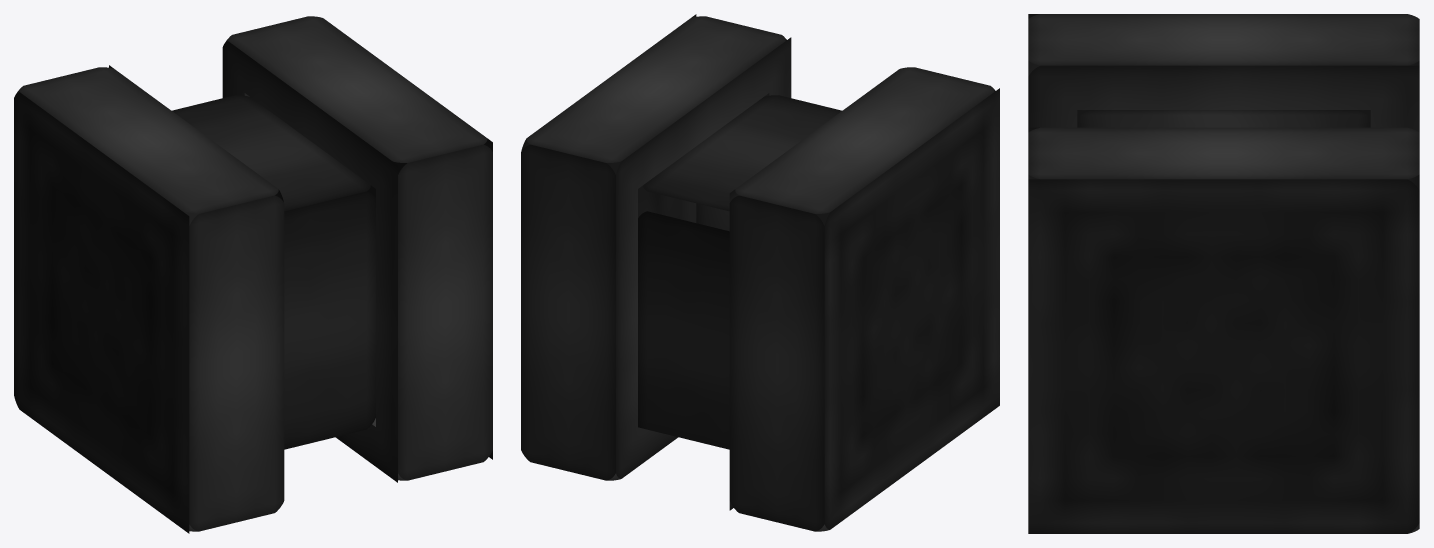
Rendered from rotor_creative_east_west.obj.
3 views of the same model, side by side, from view 1: azimuth 30°, elevation 25°; view 2: azimuth 150°, elevation 25°; view 3: azimuth 270°, elevation 25° (orthographic). The views are drawn at different scales.
Parts seen in each view (by area): view 1: rotor; view 2: rotor; view 3: rotor.
Part boxes in pixels (x1,y1,x2,y2): rotor: (14, 16, 492, 533); rotor: (521, 14, 999, 531); rotor: (1028, 14, 1419, 533).
Size of the model in its own units: 1 by 1 by 1.
